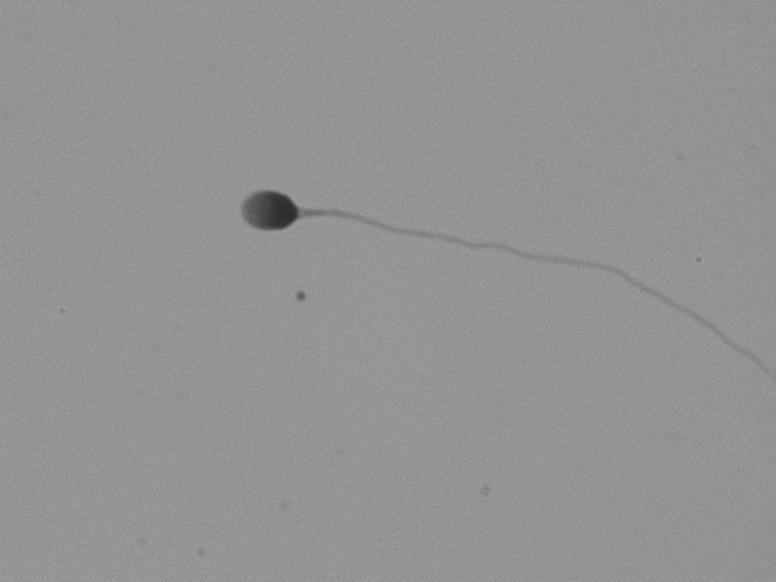Normal: (175, 125, 760, 367)
